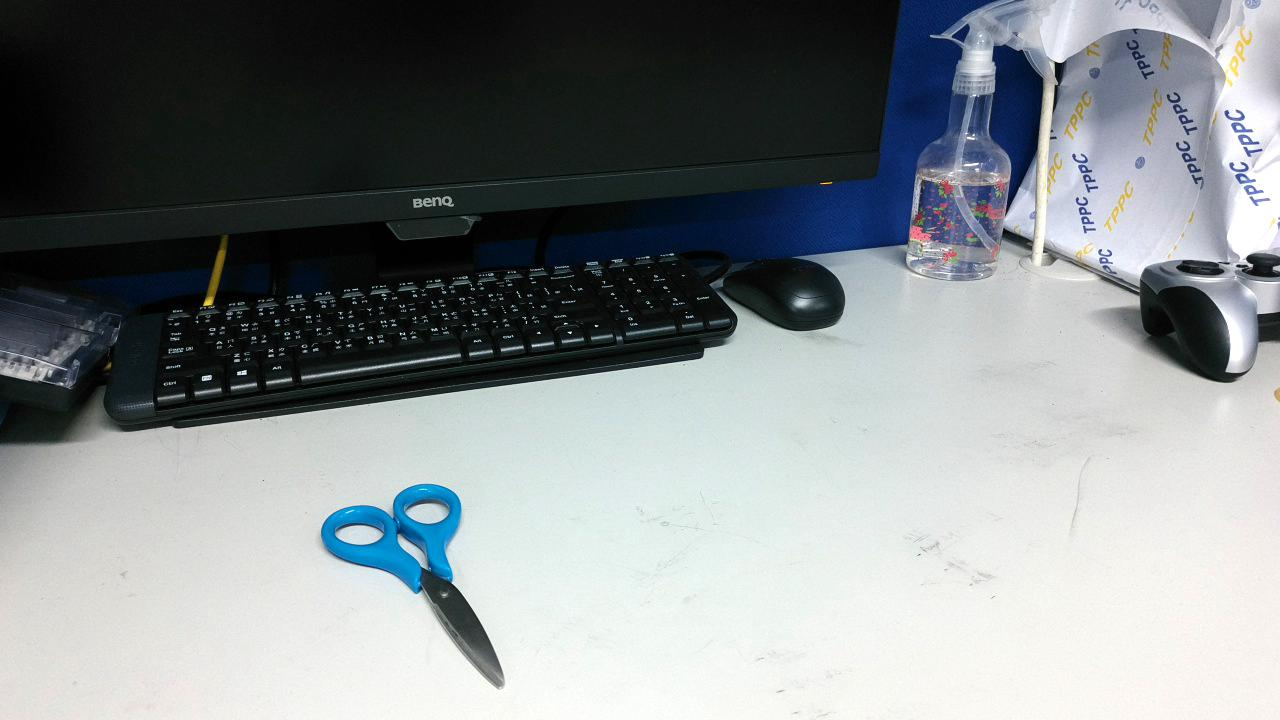long: (794, 389, 965, 525)
